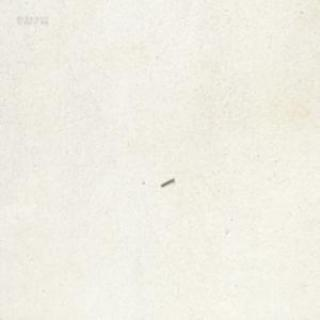Bolttrack_idkeyframe: (159, 176, 173, 187)
